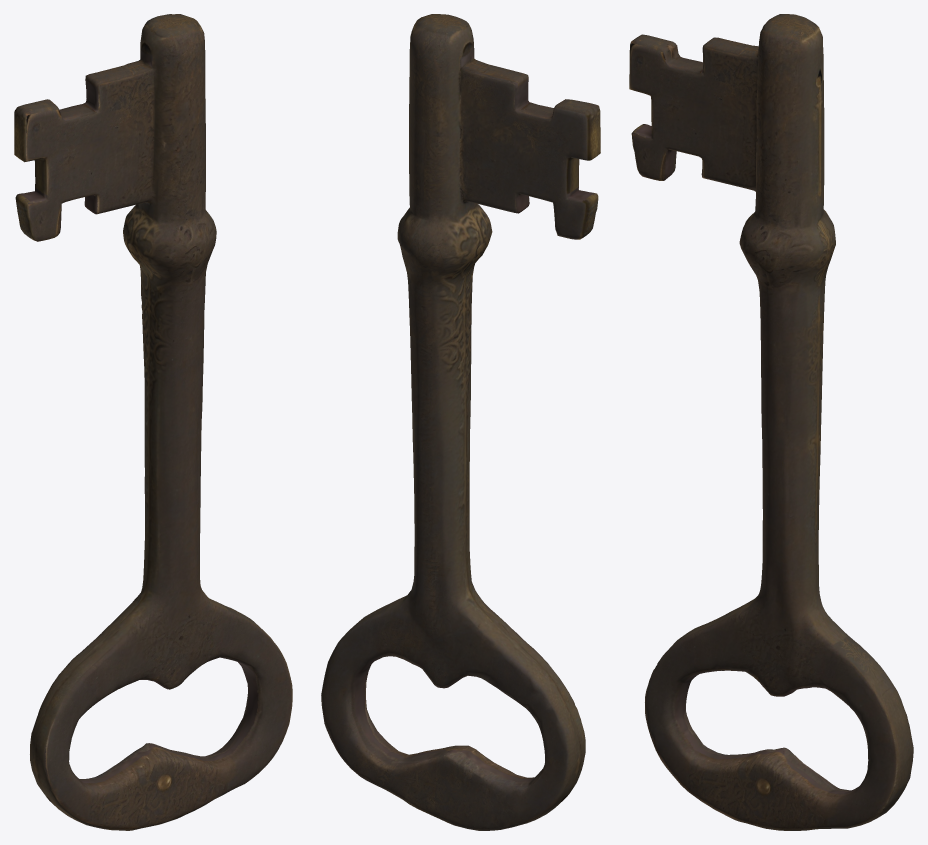
File: Old_Iron_Key.glb
3 views of the same model, side by side, from view 1: azimuth 30°, elevation 25°; view 2: azimuth 150°, elevation 25°; view 3: azimuth 330°, elevation 25° (orthographic).
Bounding box in the file's own units: 0.7064 × 2 × 0.2239.
1 material, 1 textured.
